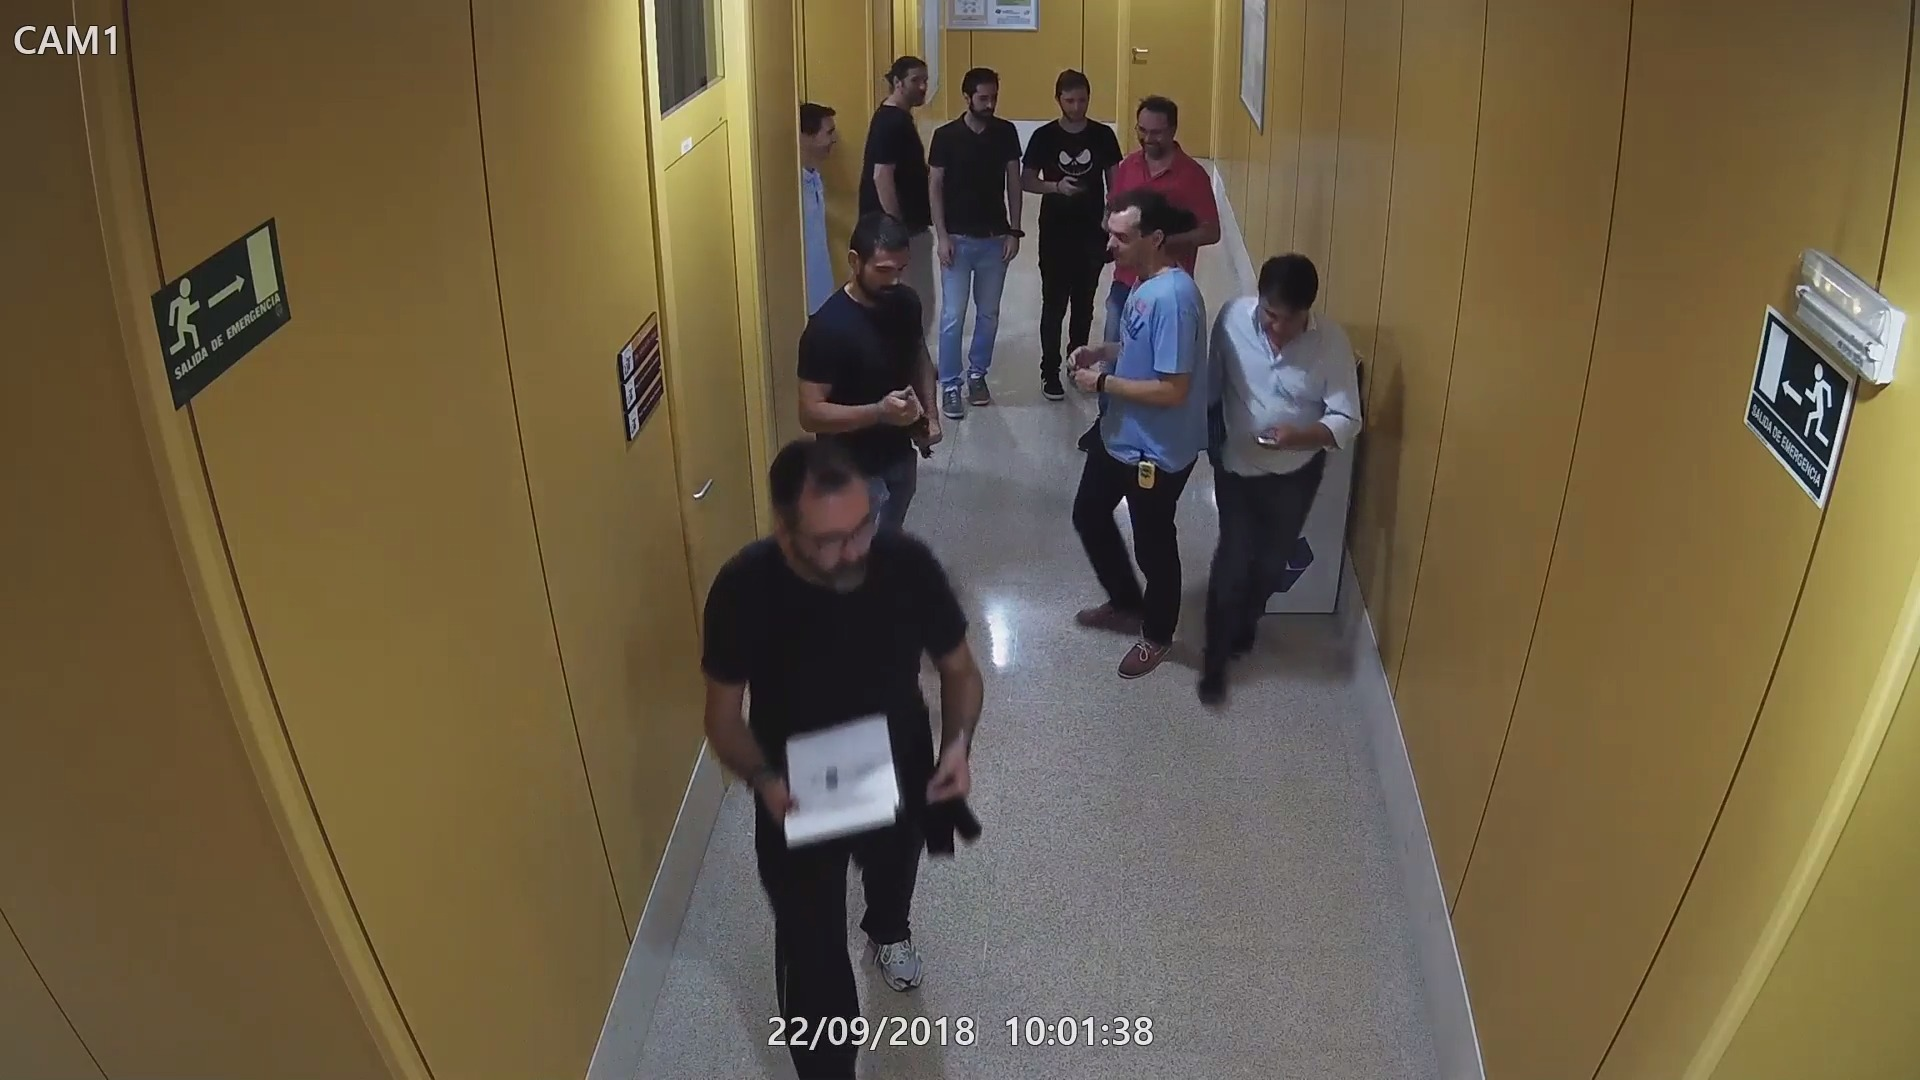rifle: (1088, 211, 1200, 270), (895, 392, 934, 462)
